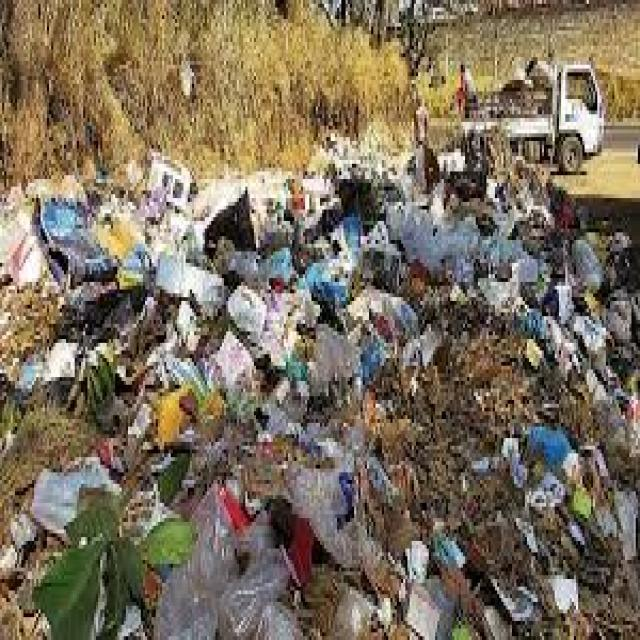garbage: (3, 144, 640, 640)
